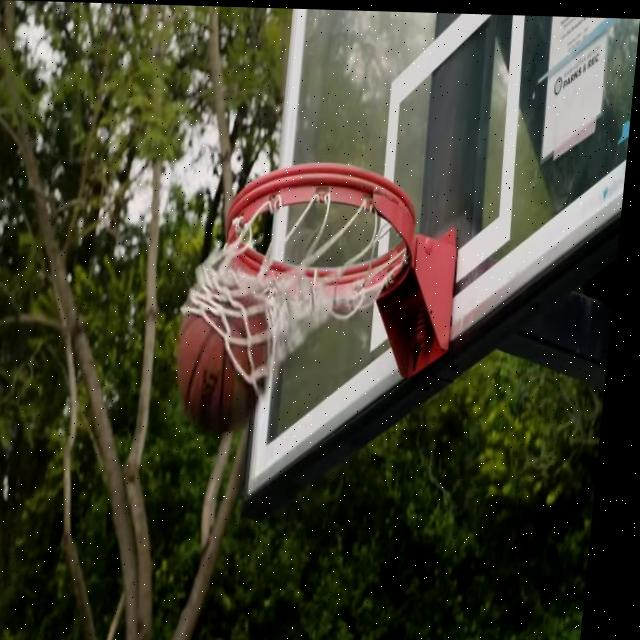Goal: (168, 293, 276, 430)
